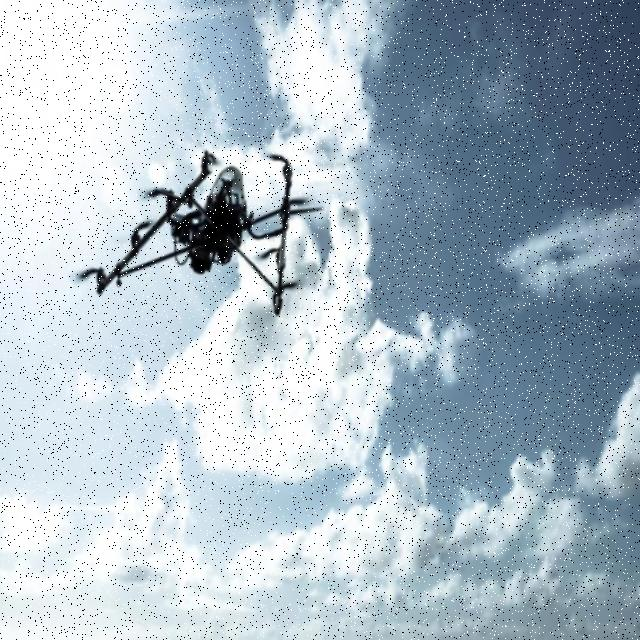UAV: (96, 148, 306, 317)
